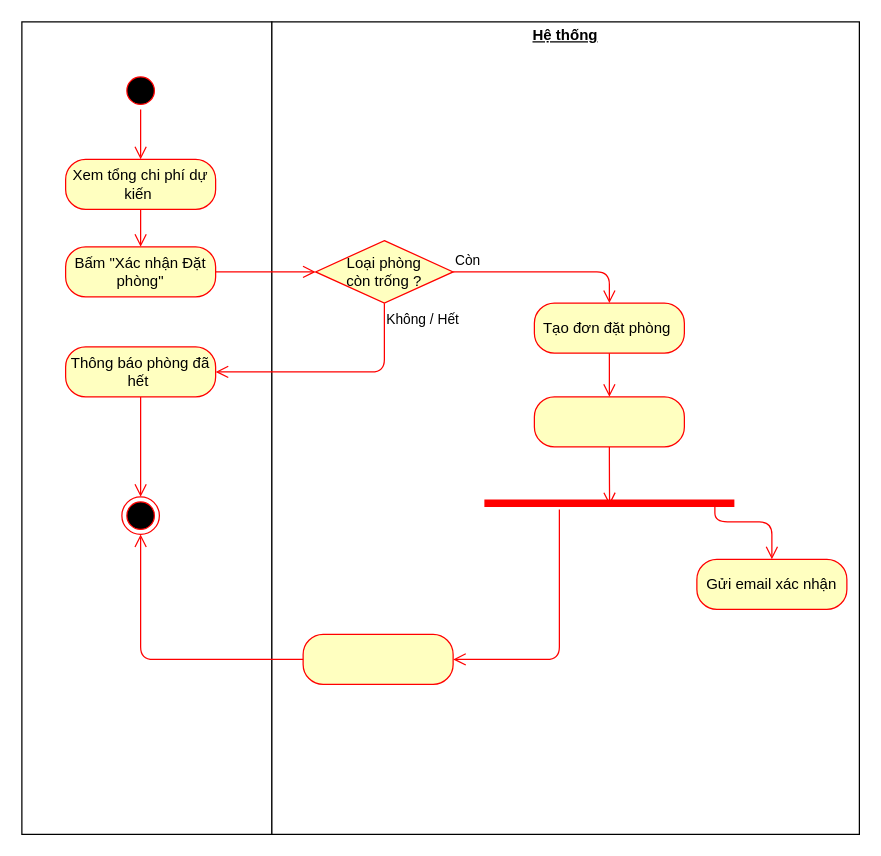
Some shapes in this 881 by 856 pixel diagram are drawn without their labels. Each missing label, with the box of its shape:
Cấp mã đặt phòng: (533, 396, 684, 447)
Hiển thị thống báo thành công: (302, 633, 453, 684)
Khách hàng: (21, 21, 272, 834)
